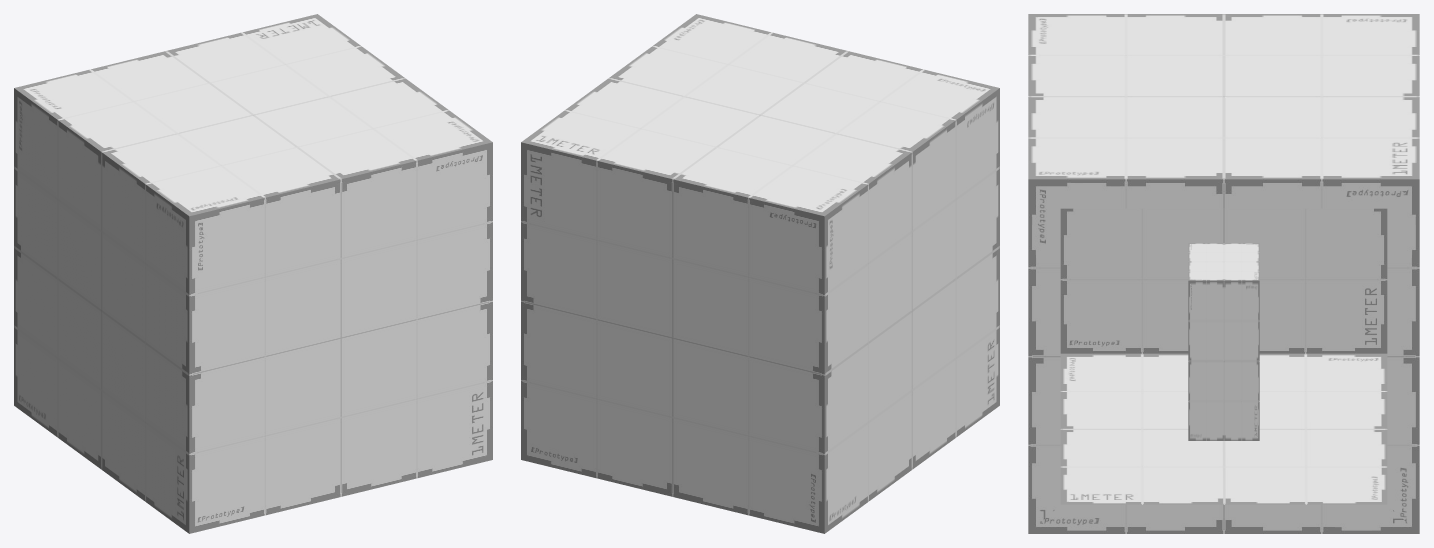
Rendered from indoorTest2.glb.
3 renders of one model, left to right at view 1: azimuth 30°, elevation 25°; view 2: azimuth 150°, elevation 25°; view 3: azimuth 270°, elevation 25°, orthographic. The views are drawn at different scales.
Visible parts, largest first — view 1: BoxWall1.003, BoxWall1.002, BoxWall1.001; view 2: BoxWall1.004, BoxWall1.002, BoxWall1.001; view 3: BoxWall1.001, BoxWall1.005, BoxWall1.002, BoxObstacle1, BoxWall1.003, BoxWall1.004.
Part boxes in pixels (x1,y1,x2,y2): BoxWall1.003: (189, 142, 492, 533); BoxWall1.002: (14, 88, 189, 533); BoxWall1.001: (14, 14, 492, 216); BoxWall1.004: (521, 142, 824, 533); BoxWall1.002: (824, 88, 999, 533); BoxWall1.001: (521, 14, 999, 216); BoxWall1.001: (1028, 14, 1419, 208); BoxWall1.005: (1029, 353, 1418, 533); BoxWall1.002: (1060, 208, 1387, 353); BoxObstacle1: (1188, 243, 1259, 440); BoxWall1.003: (1028, 179, 1060, 533); BoxWall1.004: (1387, 179, 1419, 533).
Bounding box in the file's own units: 4.4 × 4.4 × 4.4.
Materials: 1 (1 with a texture image).
